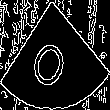O_NE: (31, 21, 79, 89)
